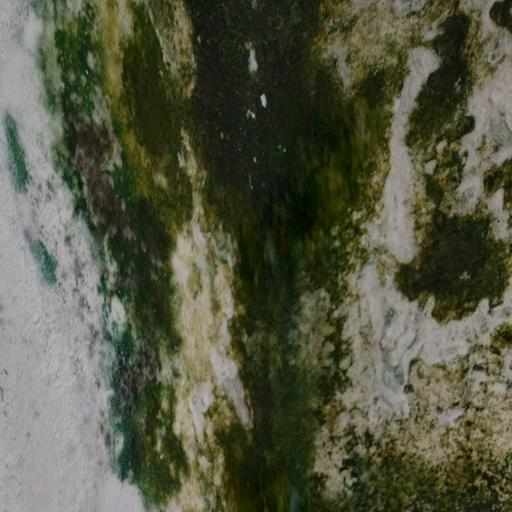algae: (38, 0, 512, 512)
